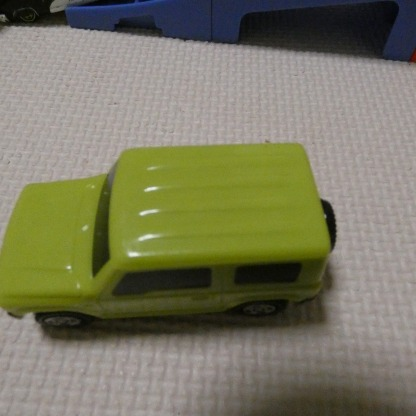car: (5, 147, 334, 329)
